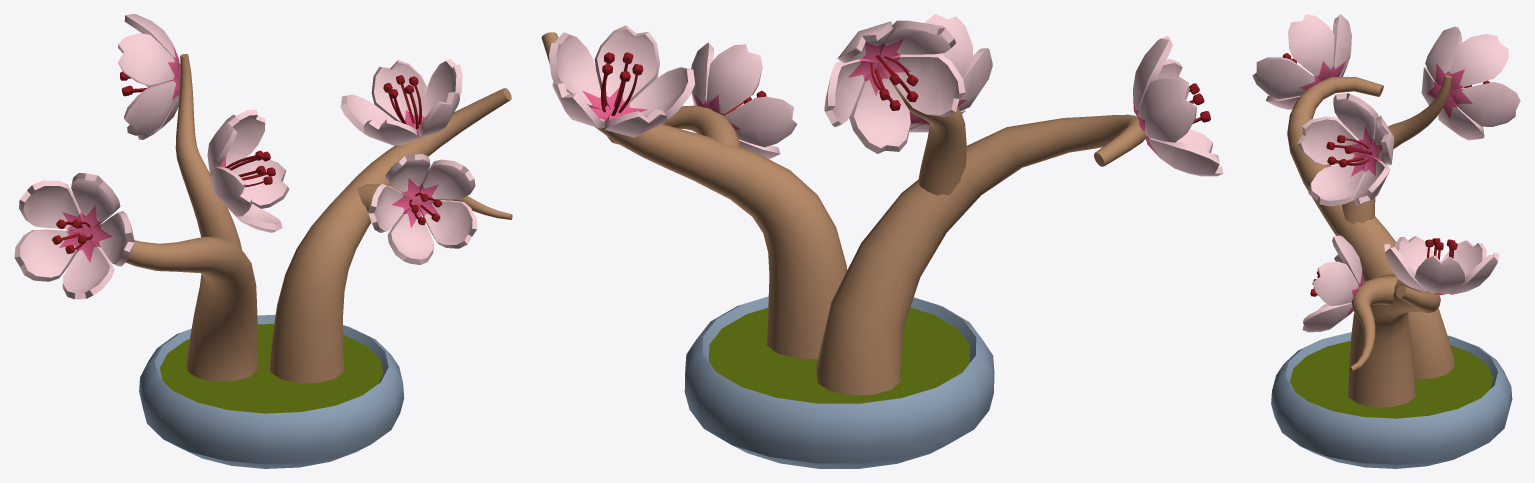
The model's file is Decoration_SakuraTree.fbx.
3 views of the same model, side by side, from view 1: azimuth 30°, elevation 25°; view 2: azimuth 150°, elevation 25°; view 3: azimuth 270°, elevation 25° (orthographic). The views are drawn at different scales.
Visible parts, largest first — view 1: Decoration_SakuraTree; view 2: Decoration_SakuraTree; view 3: Decoration_SakuraTree.
Boxes of the visible parts, <box> form: Decoration_SakuraTree: <box>14,14,512,468</box>; Decoration_SakuraTree: <box>541,14,1223,468</box>; Decoration_SakuraTree: <box>1252,14,1520,468</box>.
Bounding box in the file's own units: 472 × 339 × 225.
